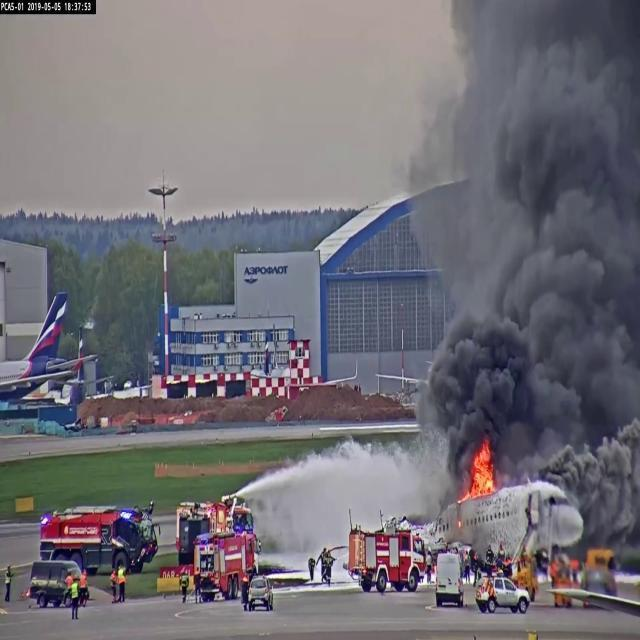Fire: (466, 453, 489, 515)
Smoke: (487, 6, 627, 318), (528, 285, 635, 477), (435, 297, 530, 444), (563, 431, 640, 521)
